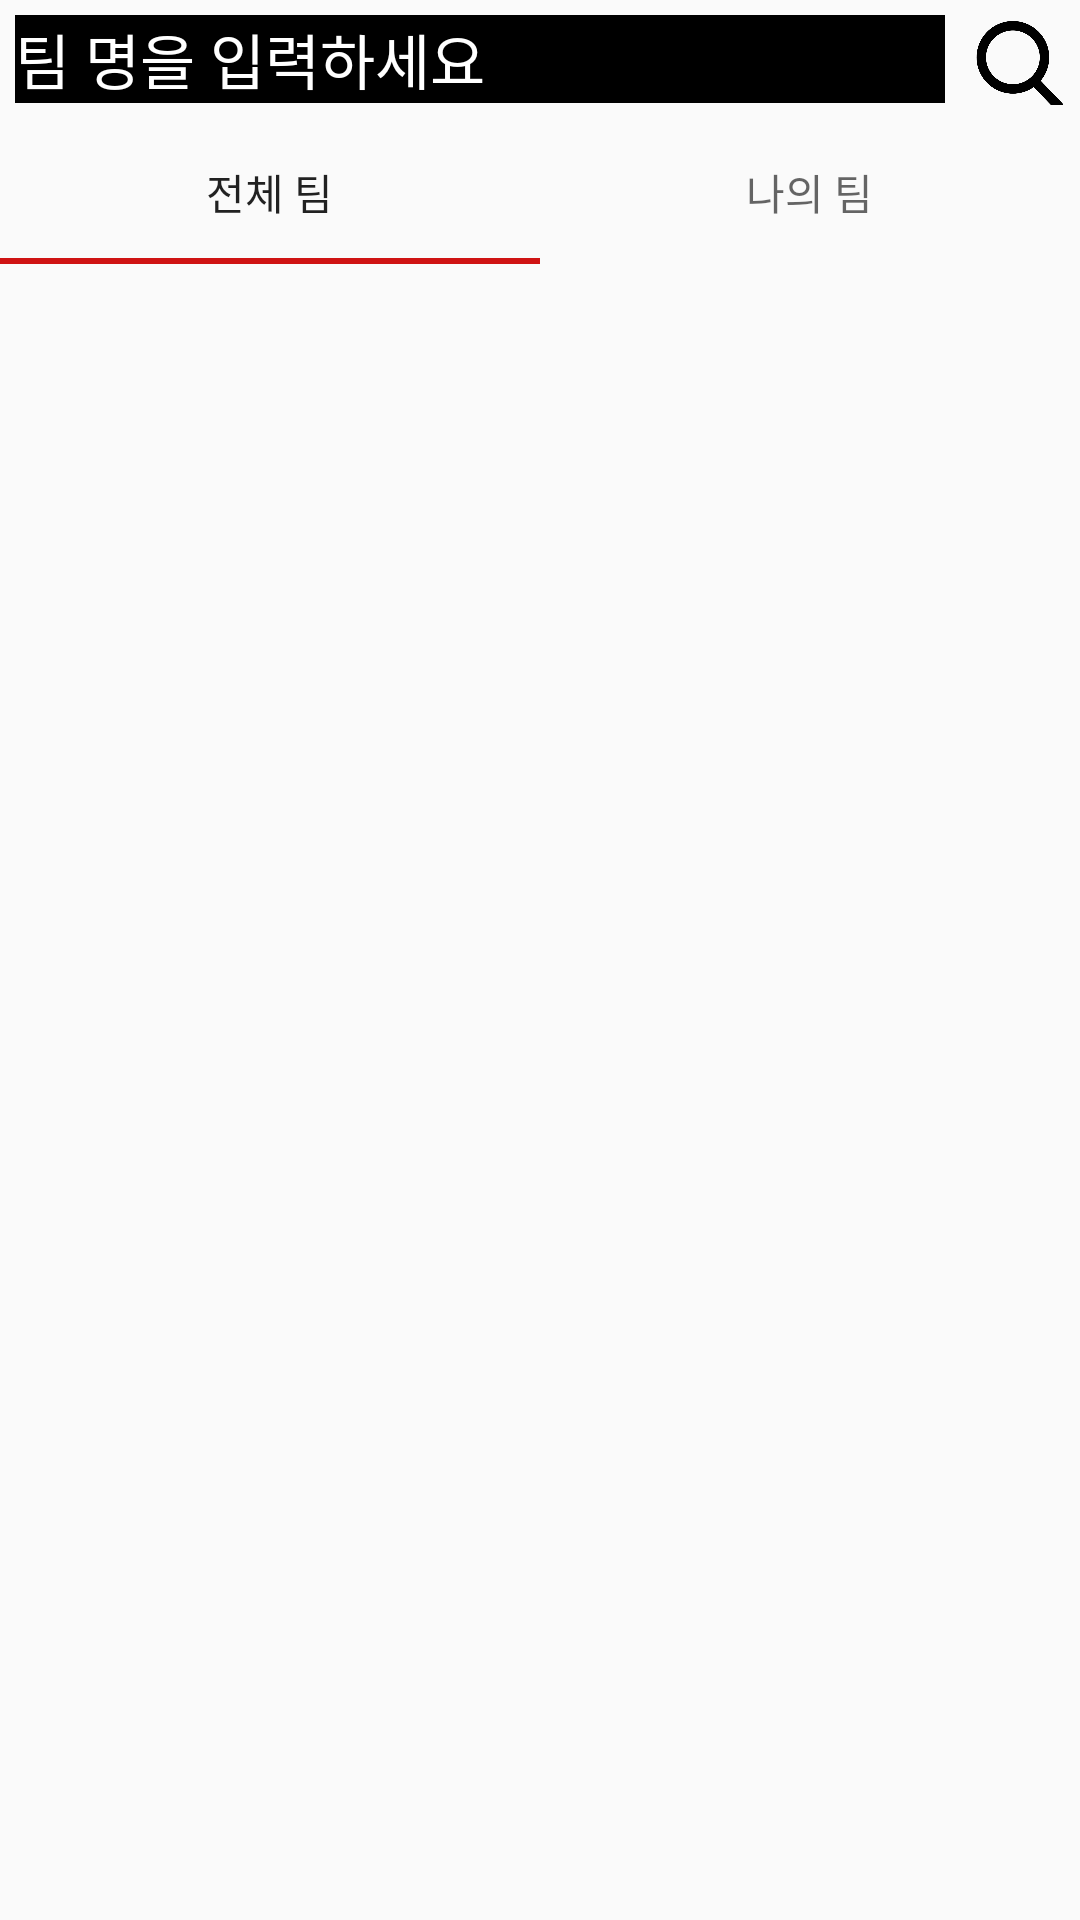

Icon bounding boxes for this 1080x1920 phone screenshot, format (x1, y1, x2, y2):
teampage teamsearch: (976, 21, 1063, 105)
